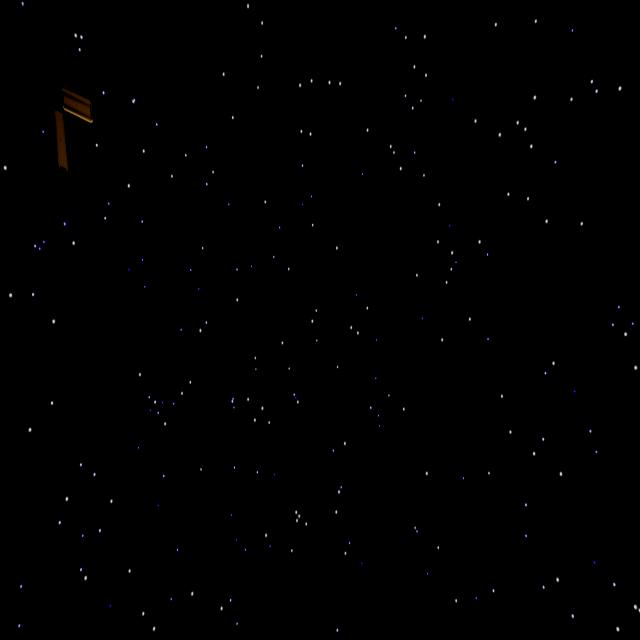satellite: (6, 61, 101, 168)
